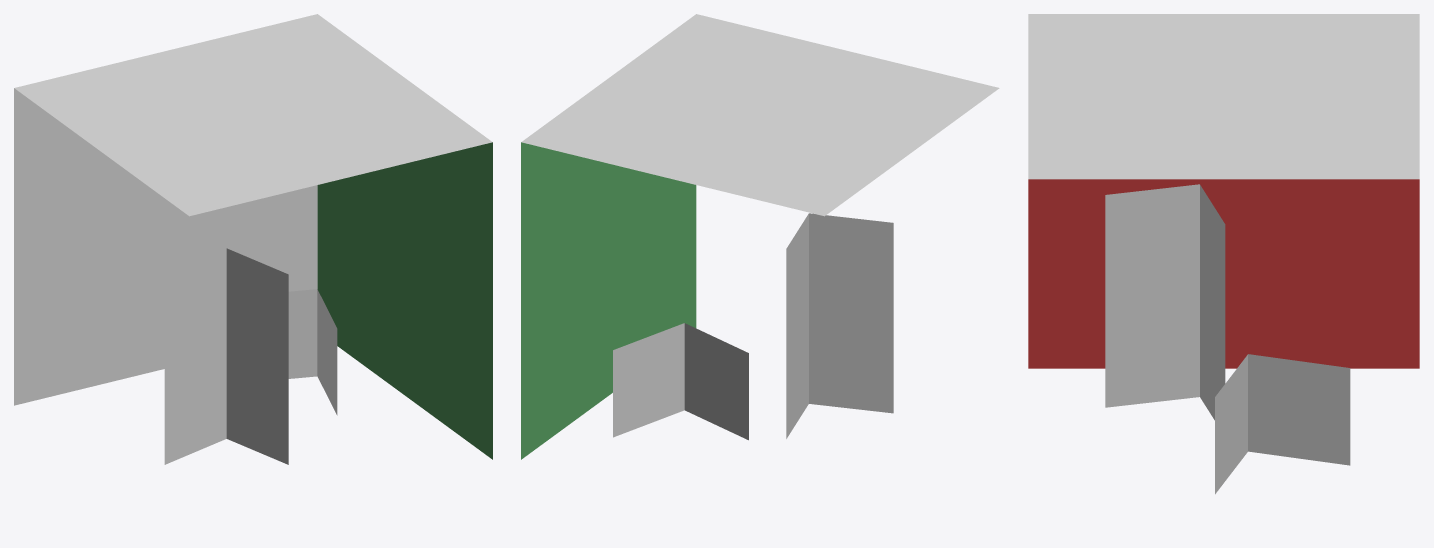
File: cornell_textured_floor.gltf
3 views of the same model, side by side, from view 1: azimuth 30°, elevation 25°; view 2: azimuth 150°, elevation 25°; view 3: azimuth 270°, elevation 25° (orthographic). The views are drawn at different scales.
Size of the model in its own units: 2 by 2 by 2.
